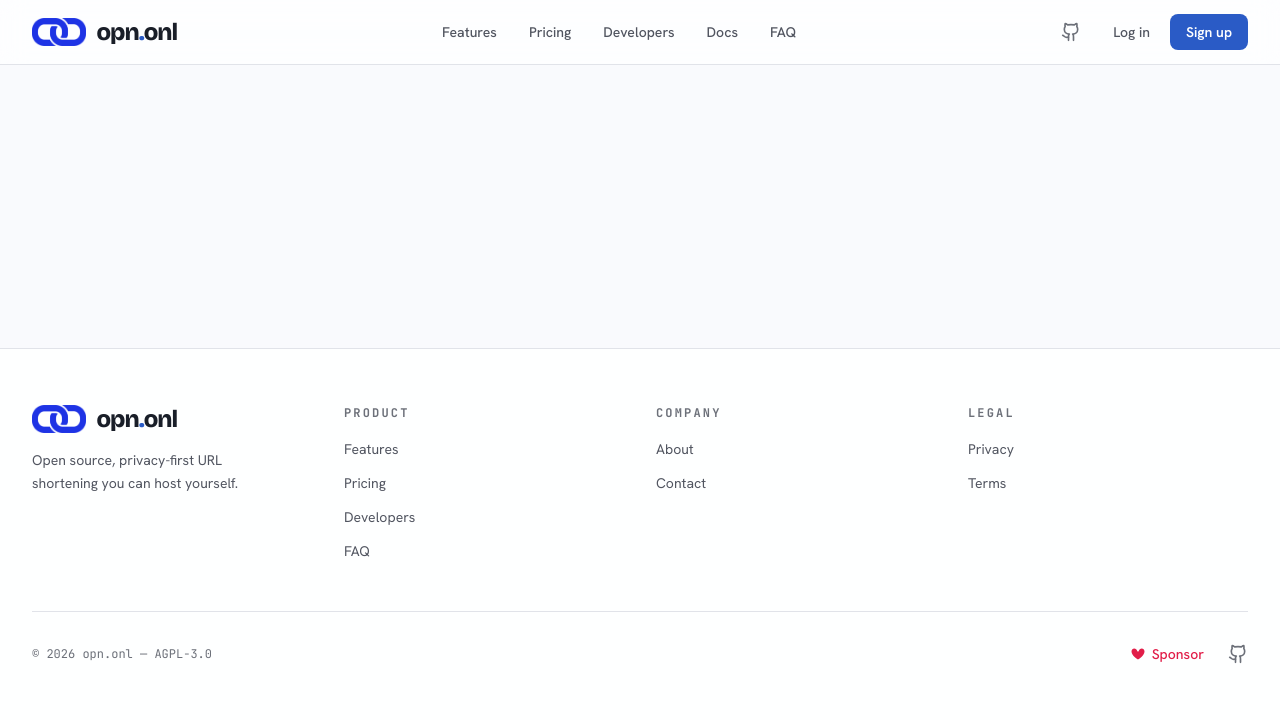
Scenario: Layout auth and menus › picks up a token written before in-app navigation
expect the link "Log in" is shown: met, box left=1113, top=23, right=1150, bottom=41
What coordinates should you click on to do the following:
click the link "Features" in the row of "Docs"
I would click on:
 (470, 32)
Its box is left=442, top=22, right=497, bottom=42.
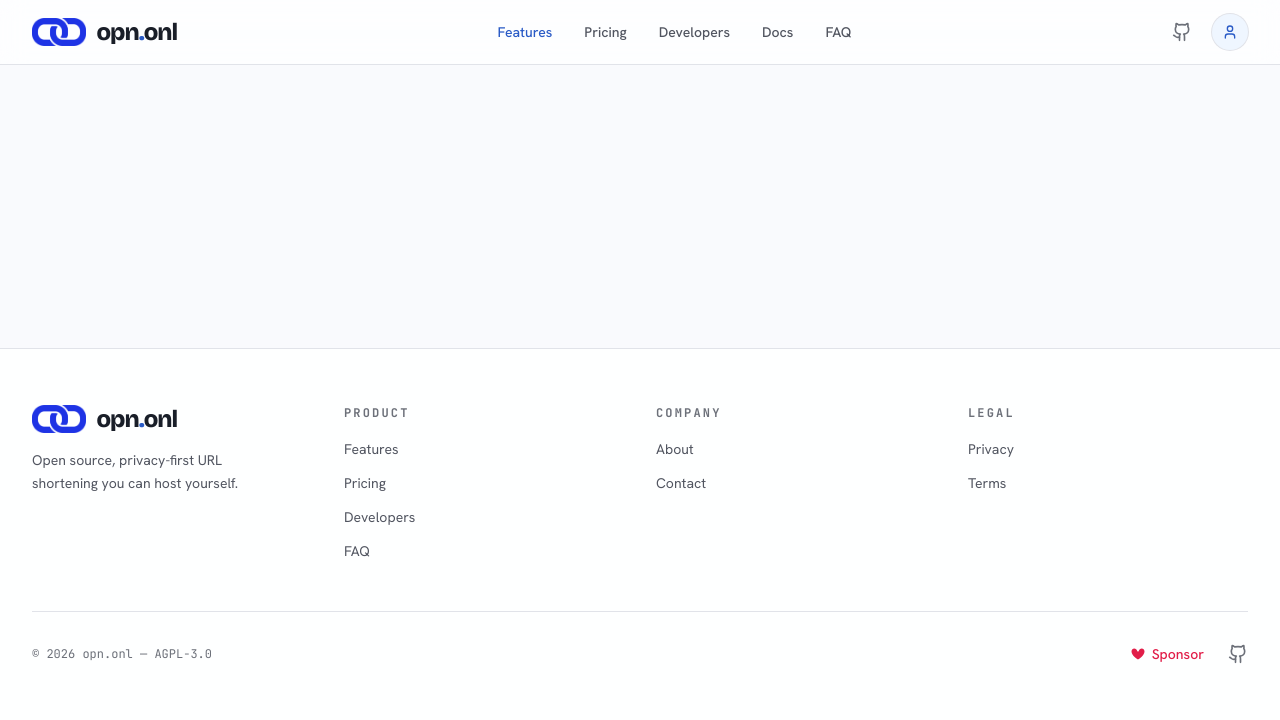
expect the button named "account menu" is shown: met, box left=1212, top=14, right=1248, bottom=50
